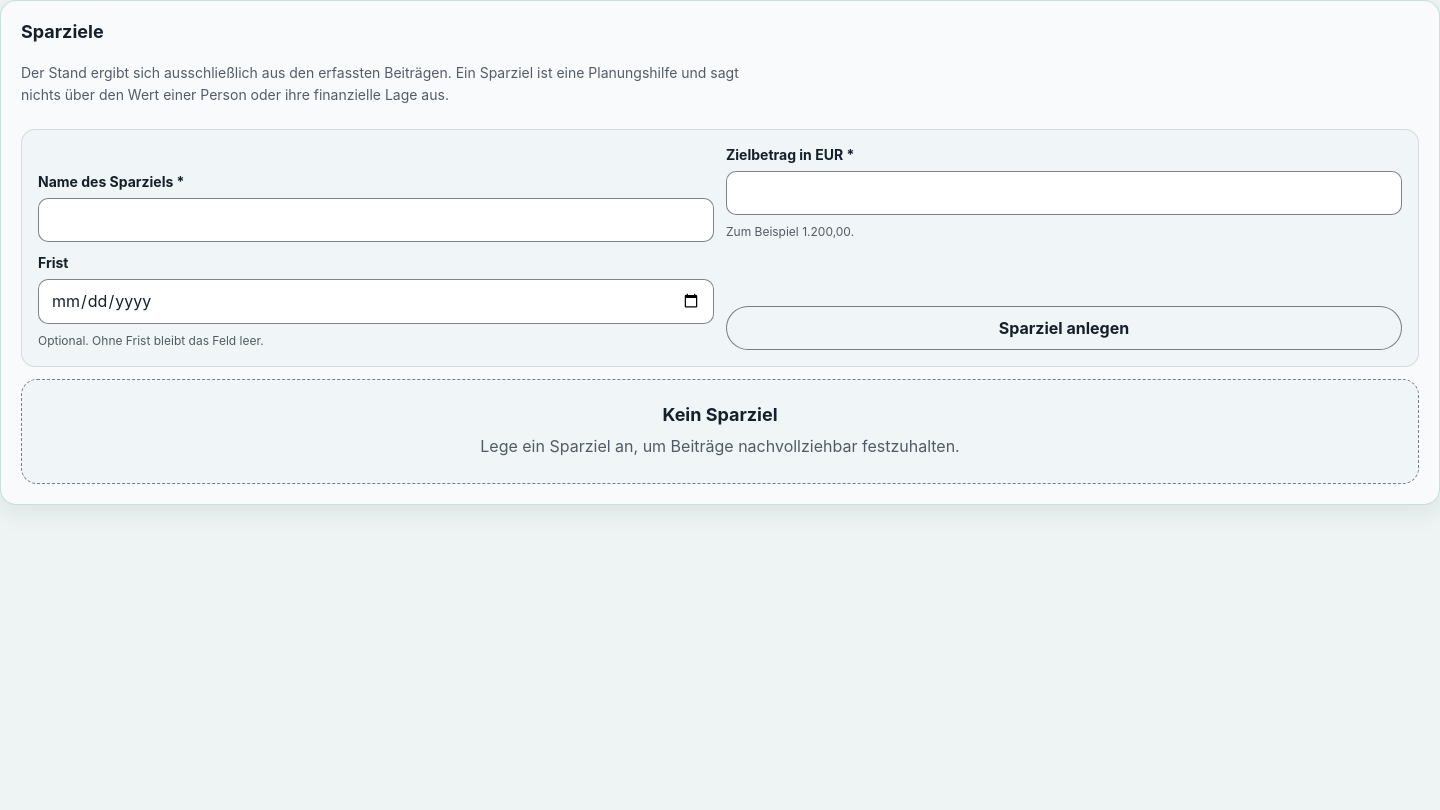
SavingsPanel › keeps an exceeded target correct and free of judgement
The width and height of the screenshot is (1440, 810).
Check: the button "Sparziel anlegen" is shown, box [726,306,1402,350]
Type "Synthetisches Sparziel" into the field labelled "Name des Sparziels *". click: (376, 220)
box: [38,198,714,242]
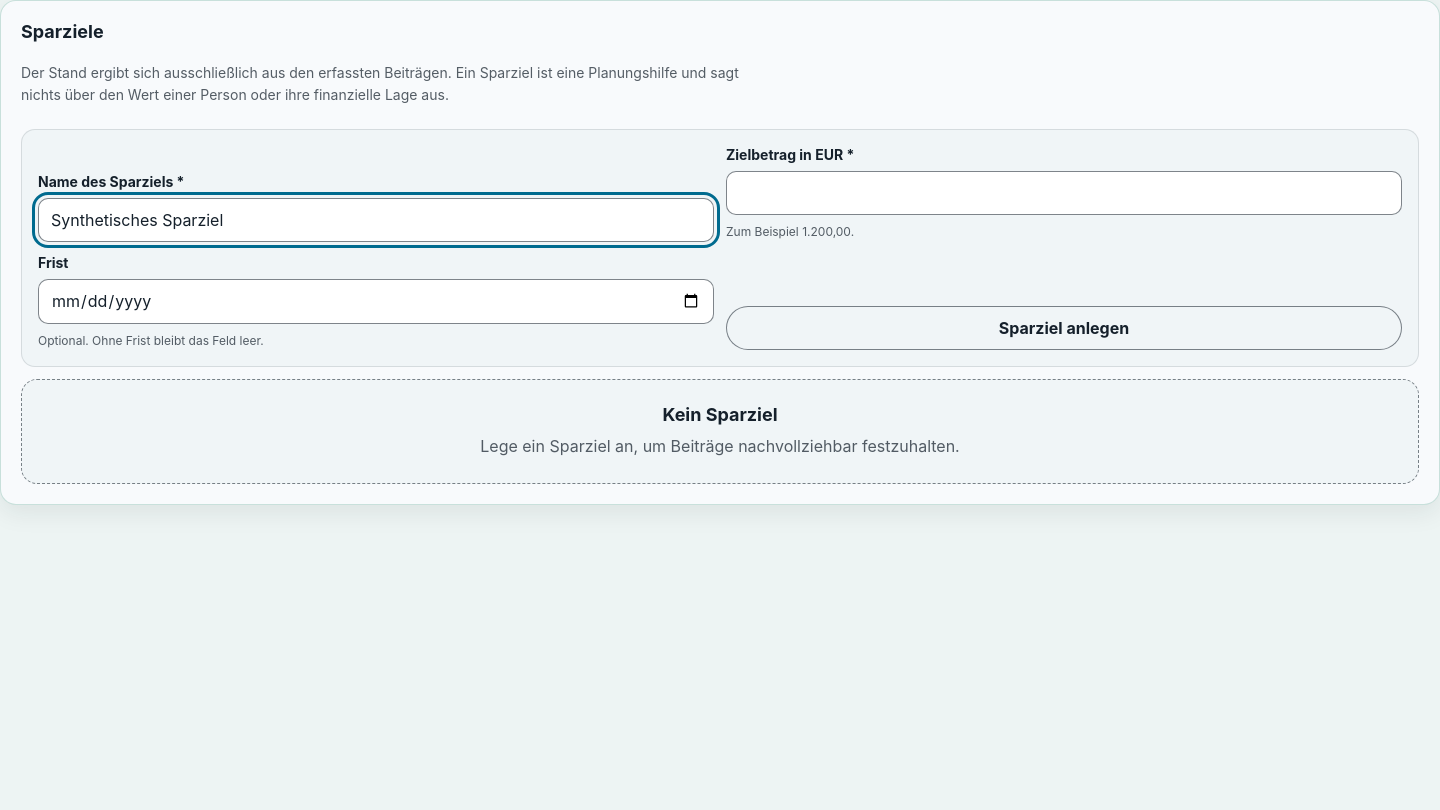
Type "100,00" into the field labelled "Zielbetrag in EUR *". click: (1064, 193)
box: [726,171,1402,215]
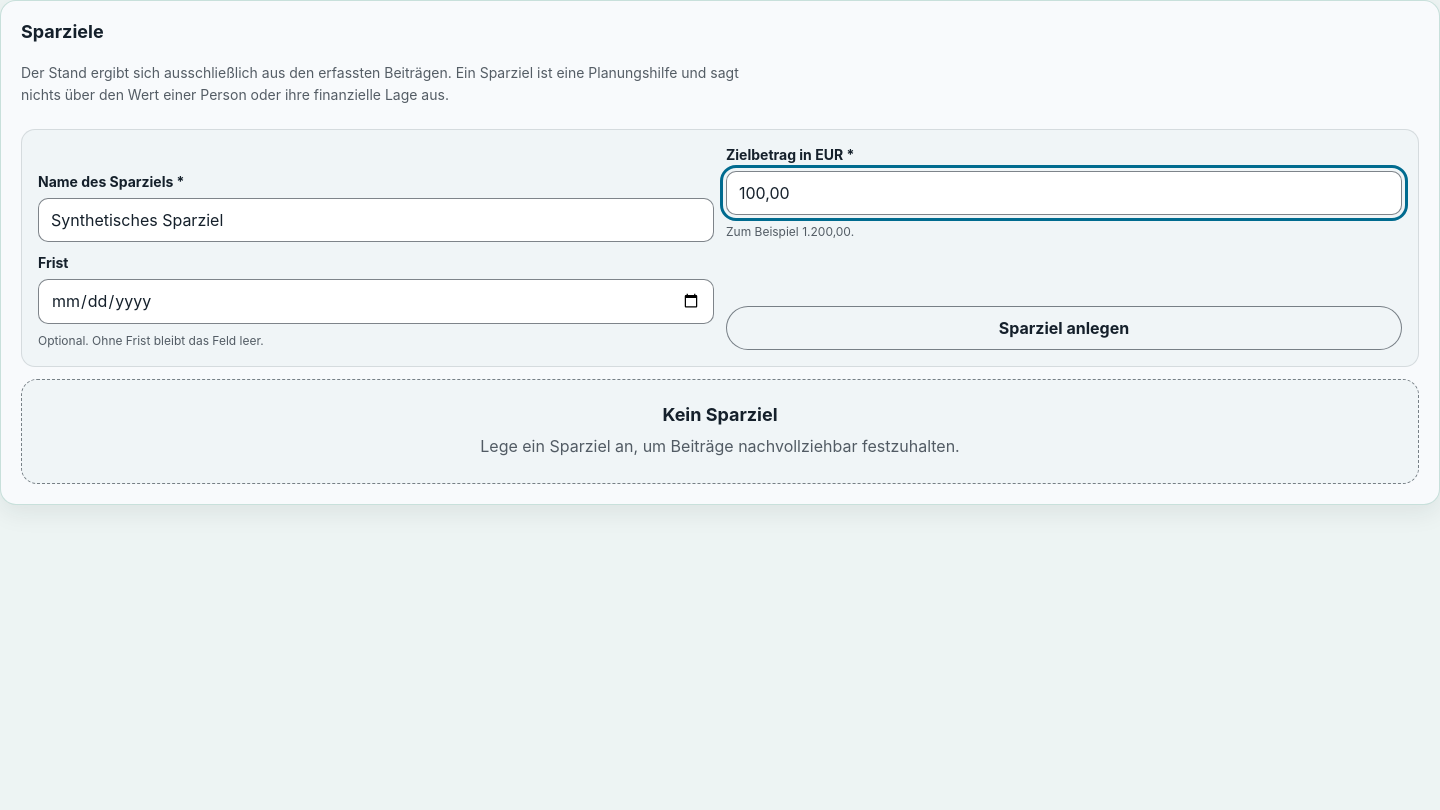
Click the button "Sparziel anlegen". click: (1064, 328)
box: [726,306,1402,350]
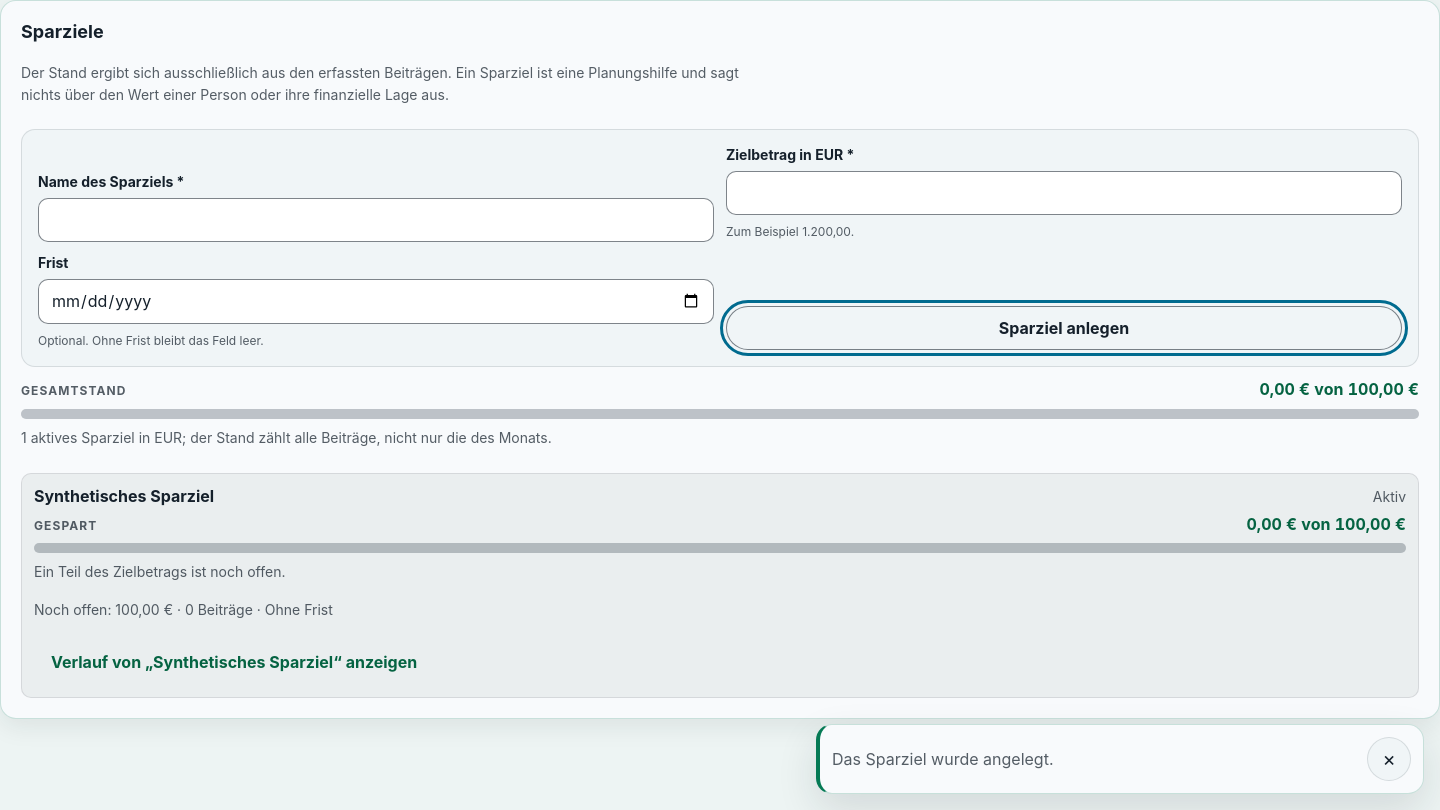
Check: the heading "Synthetisches Sparziel" is shown, box [34,486,214,506]
Click the button "Verlauf von „Synthetisches Sparziel“ anzeigen". click: (234, 663)
box: [34,641,434,685]
(page scrolled)
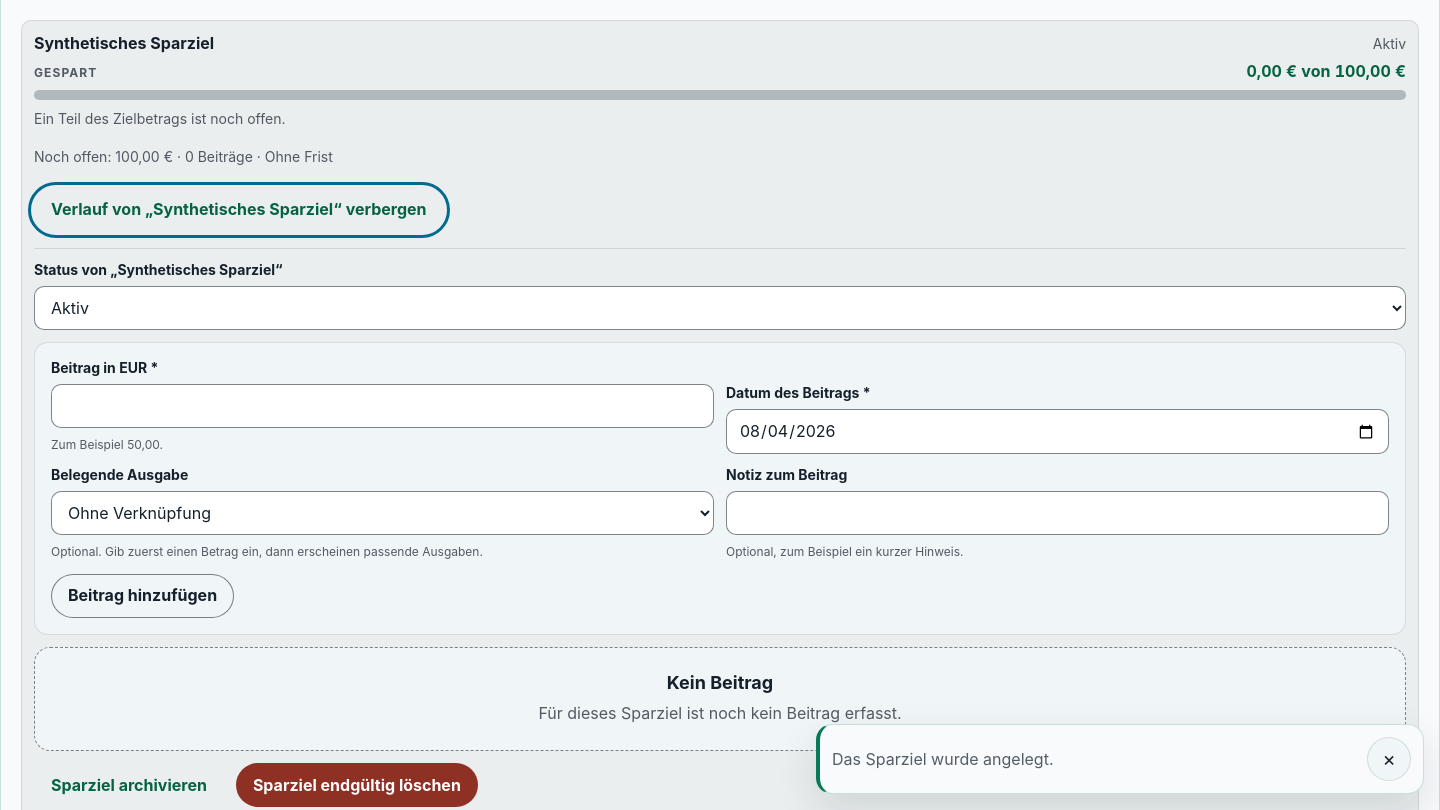
Type "150,00" into the field labelled "Beitrag in EUR *". click: (382, 406)
box: [51,384,714,428]
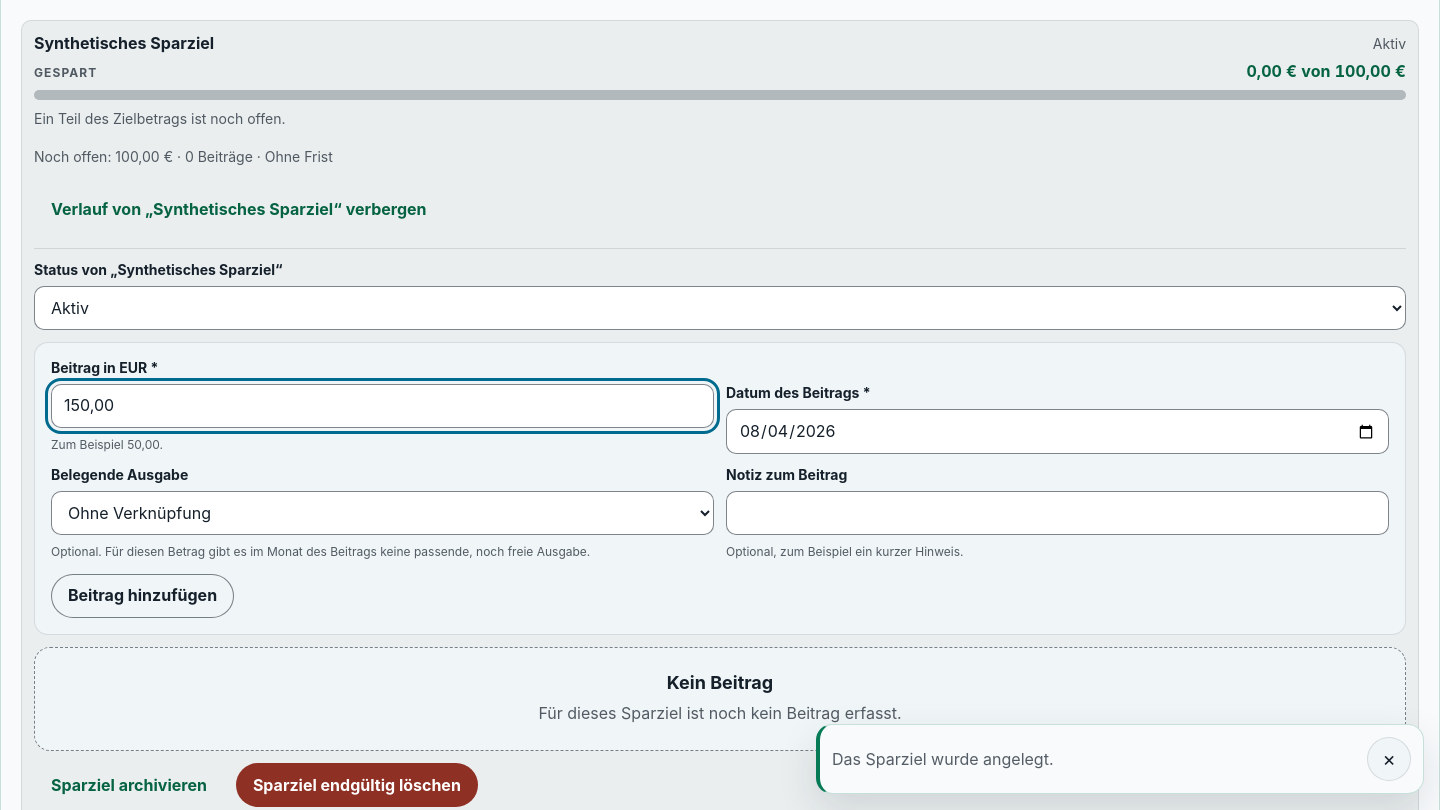
Click the button "Beitrag hinzufügen". click: (143, 596)
box: [51,574,234,618]
(page scrolled)
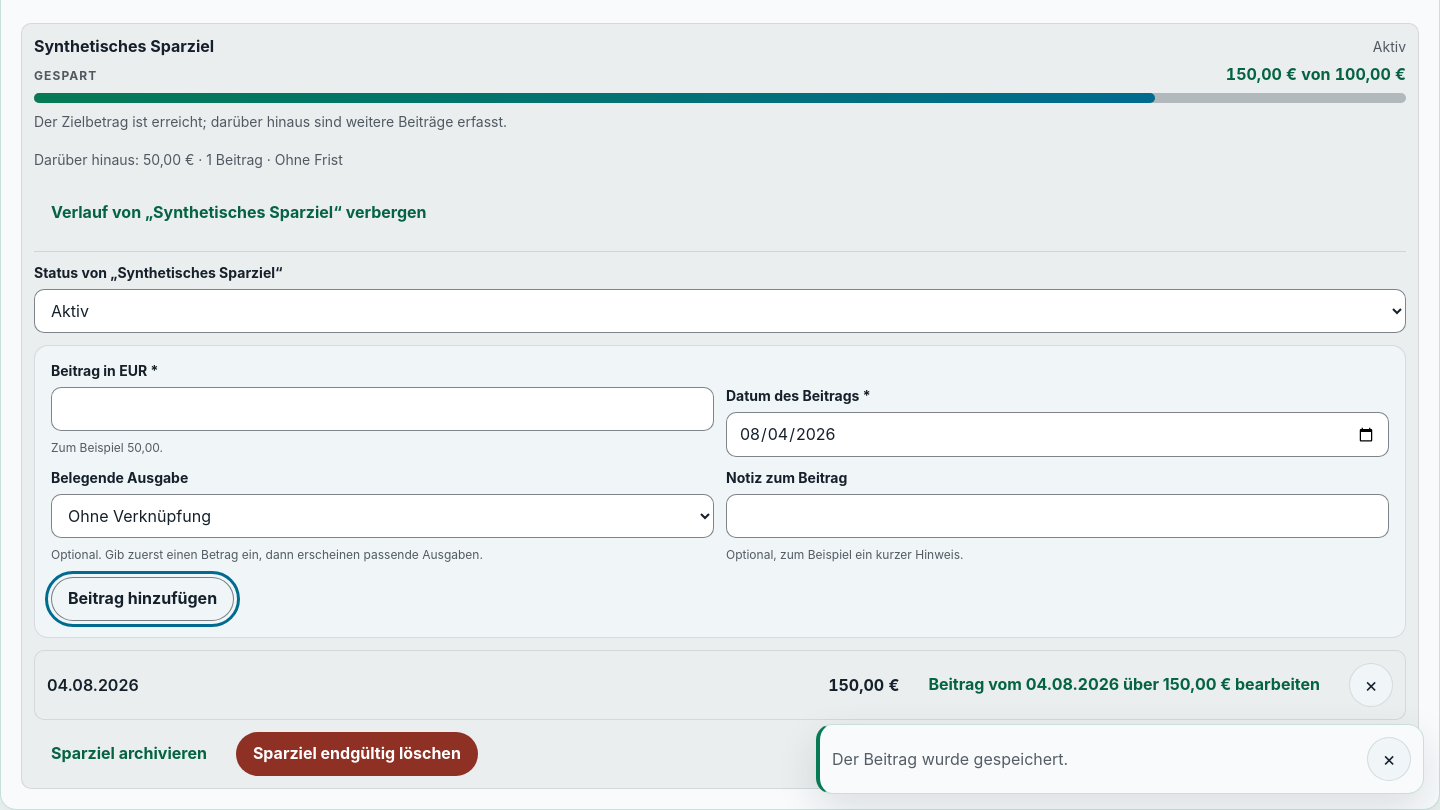
Check: the text "Der Zielbetrag ist erreicht; darüber hinaus sind weitere Beiträge erfasst." is shown, box [34,113,507,130]
Check: the text "Darüber hinaus: 50,00 € · 1 Beitrag · Ohne Frist" is shown, box [34,151,343,168]
